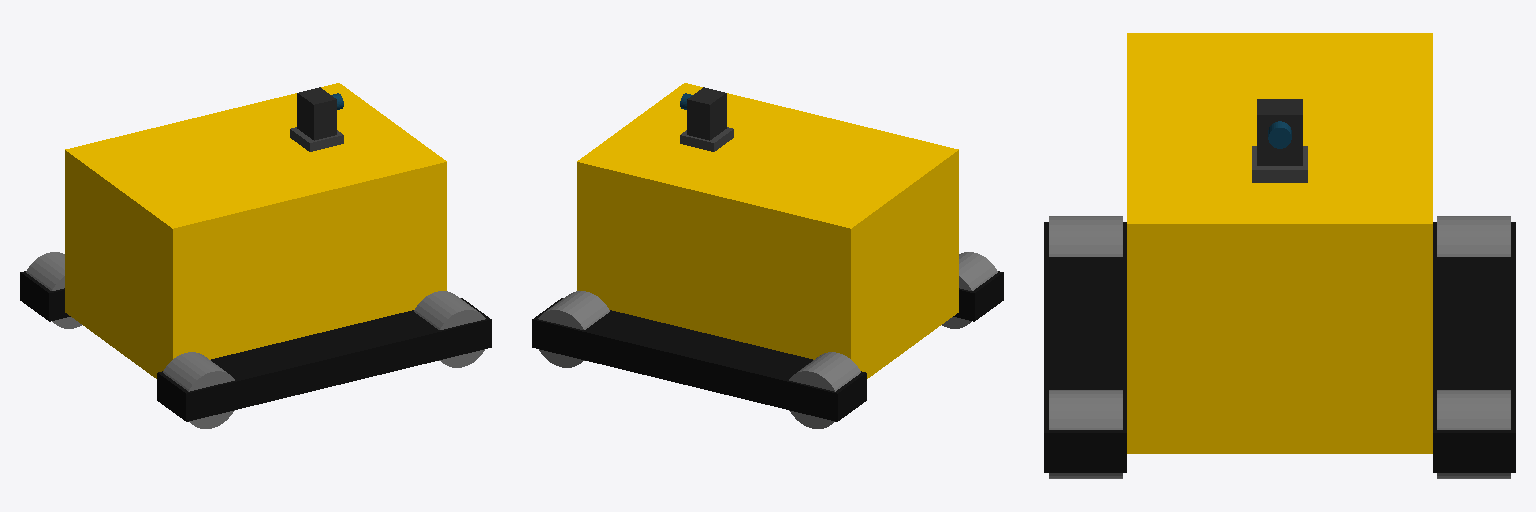
URDF robot description (tracked_robot):
<?xml version="1.0"?>
<robot name="tracked_robot">
  <!-- Materials for visualization -->
  <material name="yellow">
    <color rgba="1.0 0.8 0.0 1.0"/>
  </material>
  
  <material name="black">
    <color rgba="0.1 0.1 0.1 1.0"/>
  </material>
  
  <material name="gray">
    <color rgba="0.5 0.5 0.5 1.0"/>
  </material>
  
  <material name="dark_gray">
    <color rgba="0.3 0.3 0.3 1.0"/>
  </material>
  
  <material name="camera_material">
    <color rgba="0.2 0.2 0.2 1.0"/>
  </material>
  
  <material name="camera_lens">
    <color rgba="0.1 0.3 0.4 0.7"/>
  </material>

  <!-- Base link - robot center at ground level -->
  <link name="base_link">
    <visual>
      <origin xyz="0 0 0.34" rpy="0 0 0"/>
      <geometry>
        <box size="0.963 0.656 0.544"/>
      </geometry>
      <material name="yellow"/>
    </visual>
    <collision>
      <origin xyz="0 0 0.34" rpy="0 0 0"/>
      <geometry>
        <box size="0.963 0.656 0.544"/>
      </geometry>
    </collision>
    <inertial>
      <origin xyz="0 0 0.34" rpy="0 0 0"/>
      <mass value="50.0"/>
      <inertia 
        ixx="5.0" ixy="0.0" ixz="0.0" 
        iyy="5.0" iyz="0.0" izz="5.0"/>
    </inertial>
  </link>

  <!-- Camera mount -->
  <link name="camera_mount">
    <visual>
      <origin xyz="0 0 0" rpy="0 0 0"/>
      <geometry>
        <box size="0.12 0.12 0.06"/>
      </geometry>
      <material name="dark_gray"/>
    </visual>
  </link>

  <joint name="camera_mount_joint" type="fixed">
    <origin xyz="0.214 0 0.612" rpy="0 0 0"/>
    <parent link="base_link"/>
    <child link="camera_mount"/>
  </joint>

  <!-- Camera -->
  <link name="camera">
    <visual>
      <origin xyz="0 0 0.06" rpy="0 0 0"/>
      <geometry>
        <box size="0.08 0.1 0.12"/>
      </geometry>
      <material name="camera_material"/>
    </visual>
  </link>

  <joint name="camera_joint" type="fixed">
    <origin xyz="0 0 0.03" rpy="0 0 0"/>
    <parent link="camera_mount"/>
    <child link="camera"/>
  </joint>

  <!-- Camera lens -->
  <link name="camera_lens">
    <visual>
      <origin xyz="0.024 0 0" rpy="0 1.5708 0"/>
      <geometry>
        <cylinder radius="0.025" length="0.032"/>
      </geometry>
      <material name="camera_lens"/>
    </visual>
  </link>

  <joint name="camera_lens_joint" type="fixed">
    <origin xyz="0.04 0 0.084" rpy="0 0 0"/>
    <parent link="camera"/>
    <child link="camera_lens"/>
  </joint>

  <!-- Left track assembly -->
  <link name="left_track_base">
    <visual>
      <origin xyz="0 0 0" rpy="0 0 0"/>
      <geometry>
        <box size="1.070 0.176 0.095"/>
      </geometry>
      <material name="black"/>
    </visual>
  </link>

  <joint name="left_track_joint" type="fixed">
    <origin xyz="0 0.416 0.095" rpy="0 0 0"/>
    <parent link="base_link"/>
    <child link="left_track_base"/>
  </joint>

  <!-- Right track assembly -->
  <link name="right_track_base">
    <visual>
      <origin xyz="0 0 0" rpy="0 0 0"/>
      <geometry>
        <box size="1.070 0.176 0.095"/>
      </geometry>
      <material name="black"/>
    </visual>
  </link>

  <joint name="right_track_joint" type="fixed">
    <origin xyz="0 -0.416 0.095" rpy="0 0 0"/>
    <parent link="base_link"/>
    <child link="right_track_base"/>
  </joint>

  <!-- Wheels for tracks - These will be made to rotate to show track movement -->
  <!-- Left front wheel - Drive wheel -->
  <link name="left_front_wheel">
    <visual>
      <origin xyz="0 0 0" rpy="1.5708 0 0"/>
      <geometry>
        <cylinder radius="0.095" length="0.158"/>
      </geometry>
      <material name="gray"/>
    </visual>
  </link>

  <joint name="left_front_wheel_joint" type="continuous">
    <origin xyz="0.44 0 0" rpy="0 0 0"/>
    <parent link="left_track_base"/>
    <child link="left_front_wheel"/>
    <axis xyz="0 1 0"/>
  </joint>

  <!-- Left rear wheel -->
  <link name="left_rear_wheel">
    <visual>
      <origin xyz="0 0 0" rpy="1.5708 0 0"/>
      <geometry>
        <cylinder radius="0.095" length="0.158"/>
      </geometry>
      <material name="gray"/>
    </visual>
  </link>

  <joint name="left_rear_wheel_joint" type="continuous">
    <origin xyz="-0.44 0 0" rpy="0 0 0"/>
    <parent link="left_track_base"/>
    <child link="left_rear_wheel"/>
    <axis xyz="0 1 0"/>
  </joint>

  <!-- Right front wheel - Drive wheel -->
  <link name="right_front_wheel">
    <visual>
      <origin xyz="0 0 0" rpy="1.5708 0 0"/>
      <geometry>
        <cylinder radius="0.095" length="0.158"/>
      </geometry>
      <material name="gray"/>
    </visual>
  </link>

  <joint name="right_front_wheel_joint" type="continuous">
    <origin xyz="0.44 0 0" rpy="0 0 0"/>
    <parent link="right_track_base"/>
    <child link="right_front_wheel"/>
    <axis xyz="0 1 0"/>
  </joint>

  <!-- Right rear wheel -->
  <link name="right_rear_wheel">
    <visual>
      <origin xyz="0 0 0" rpy="1.5708 0 0"/>
      <geometry>
        <cylinder radius="0.095" length="0.158"/>
      </geometry>
      <material name="gray"/>
    </visual>
  </link>

  <joint name="right_rear_wheel_joint" type="continuous">
    <origin xyz="-0.44 0 0" rpy="0 0 0"/>
    <parent link="right_track_base"/>
    <child link="right_rear_wheel"/>
    <axis xyz="0 1 0"/>
  </joint>
</robot>

--- Render facts (derived) ---
Views: 3 orthographic renders of the robot side by side, from view 1: azimuth 30°, elevation 25°; view 2: azimuth 150°, elevation 25°; view 3: azimuth 270°, elevation 25°.
Robot: tracked_robot — 10 links, 9 joints (4 continuous, 5 fixed); root link base_link; default pose: all joints at 0.
Links seen in each view (by area): view 1: base_link, right_track_base, right_rear_wheel, right_front_wheel, camera, left_track_base, left_rear_wheel, camera_mount; view 2: base_link, left_track_base, left_rear_wheel, left_front_wheel, camera, right_track_base, right_rear_wheel, camera_mount; view 3: base_link, left_track_base, right_track_base, left_front_wheel, right_front_wheel, left_rear_wheel, right_rear_wheel, camera, camera_mount, camera_lens.
Link boxes in pixels (box(x1,y1,x2,y2)): base_link: box(65, 83, 446, 378); right_track_base: box(157, 298, 491, 421); right_rear_wheel: box(163, 352, 234, 428); right_front_wheel: box(414, 291, 485, 367); camera: box(297, 87, 336, 140); left_track_base: box(20, 271, 70, 321); left_rear_wheel: box(26, 252, 81, 328); camera_mount: box(290, 127, 343, 151); base_link: box(577, 83, 958, 378); left_track_base: box(532, 298, 866, 421); left_rear_wheel: box(789, 352, 860, 428); left_front_wheel: box(538, 291, 609, 367); camera: box(687, 87, 726, 140); right_track_base: box(953, 271, 1003, 321); right_rear_wheel: box(942, 252, 997, 328); camera_mount: box(680, 127, 733, 151); base_link: box(1127, 33, 1432, 453); left_track_base: box(1433, 222, 1515, 472); right_track_base: box(1044, 222, 1126, 472); left_front_wheel: box(1437, 390, 1510, 478); right_front_wheel: box(1049, 390, 1122, 478); left_rear_wheel: box(1437, 216, 1510, 256); right_rear_wheel: box(1049, 216, 1122, 256); camera: box(1257, 99, 1302, 165); camera_mount: box(1252, 146, 1307, 182); camera_lens: box(1268, 121, 1291, 148).
Size in the robot's own frame: 1.07 by 1.01 by 0.762 metres.
Geometry: primitives only (box / cylinder / sphere), no mesh files.